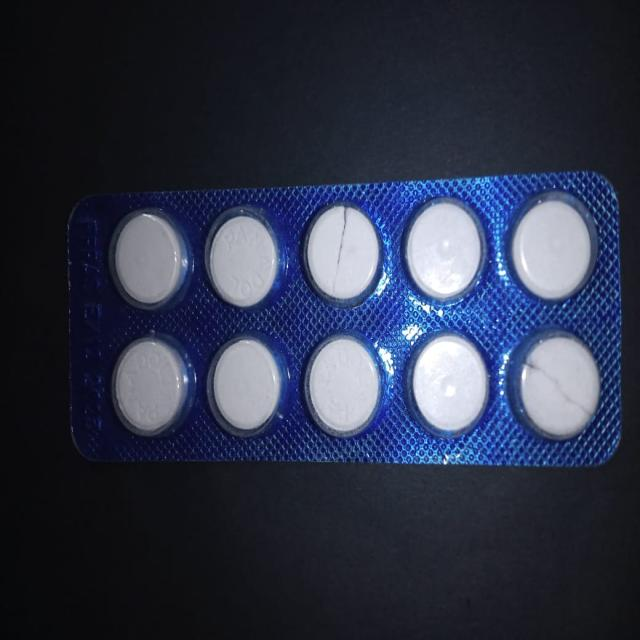defect: (509, 322, 605, 448), (298, 200, 385, 308)
